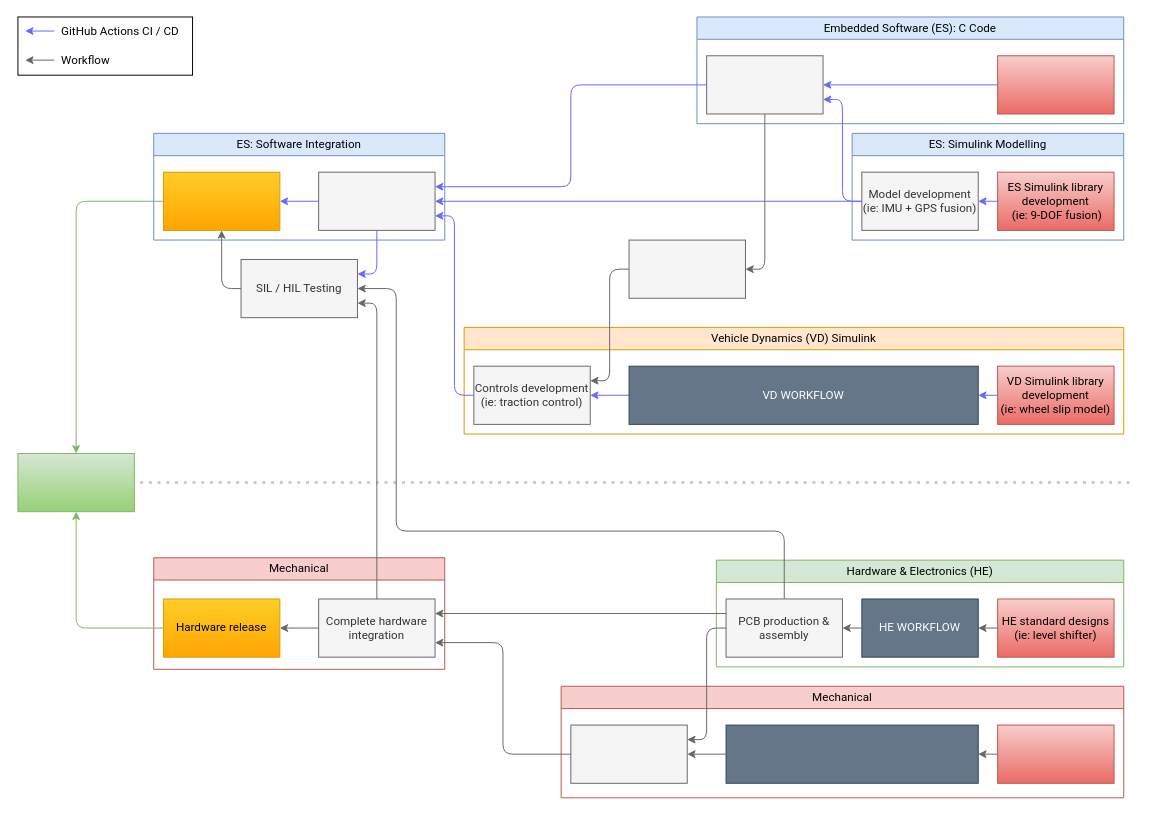
The diagram is 1152 pixels wide and 815 high, and some of its shapes have lost their labels. The centre of each missing label's shape, as x and y in pixels:
"Complete software integration" belongs at point 376,200.
"Enclosure & parts assembly" belongs at point 628,753.
"Full integration" belongs at point 75,482.
"HE standard designs (ie: anti-noise mount)" belongs at point 1055,753.
"HIL data collection (ie: rad/s data)" belongs at point 686,268.
"MECH WORKFLOW" belongs at point 851,753.
"Software release" belongs at point 221,200.
"STM32 development (ie: wheel speed)" belongs at point 764,84.
"Systems template development & conventions" belongs at point 1055,84.
